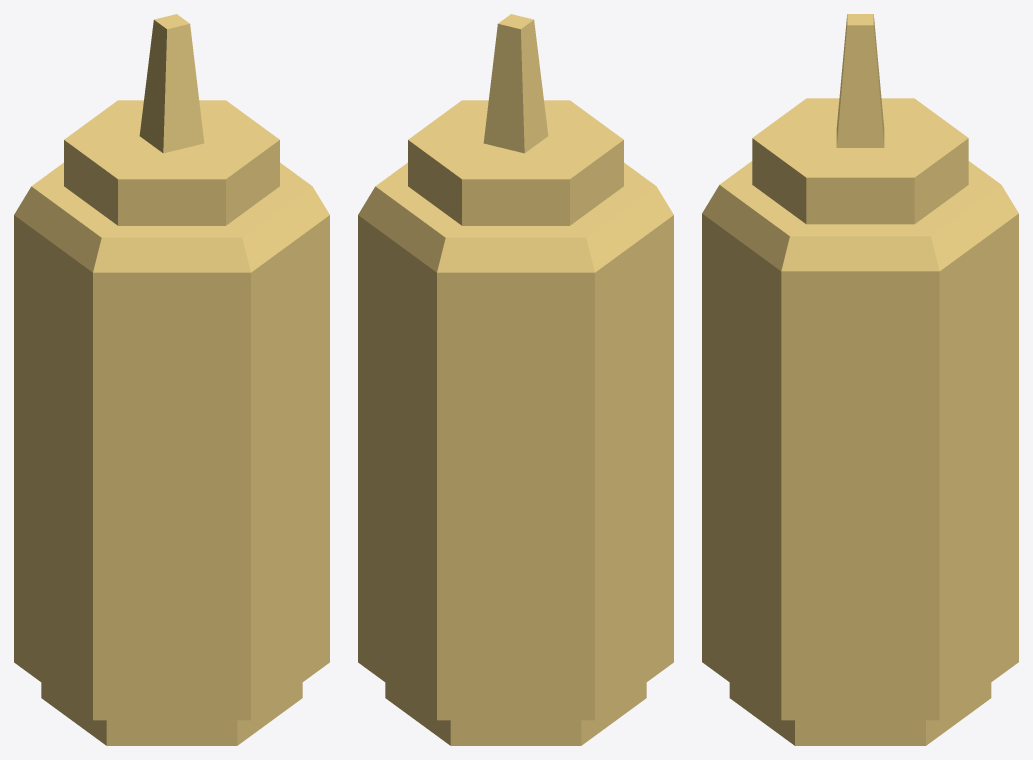
The model's file is mustard.glb.
3 views of the same model, side by side, from view 1: azimuth 30°, elevation 25°; view 2: azimuth 150°, elevation 25°; view 3: azimuth 270°, elevation 25° (orthographic).
Visible parts, largest first — view 1: bottleMusterd; view 2: bottleMusterd; view 3: bottleMusterd.
Part boxes in pixels (left/top/right/bottom): bottleMusterd: left=14, top=14, right=329, bottom=745; bottleMusterd: left=358, top=14, right=673, bottom=745; bottleMusterd: left=702, top=14, right=1018, bottom=745.
Size of the model in its own units: 0.1441 by 0.3931 by 0.1664.
